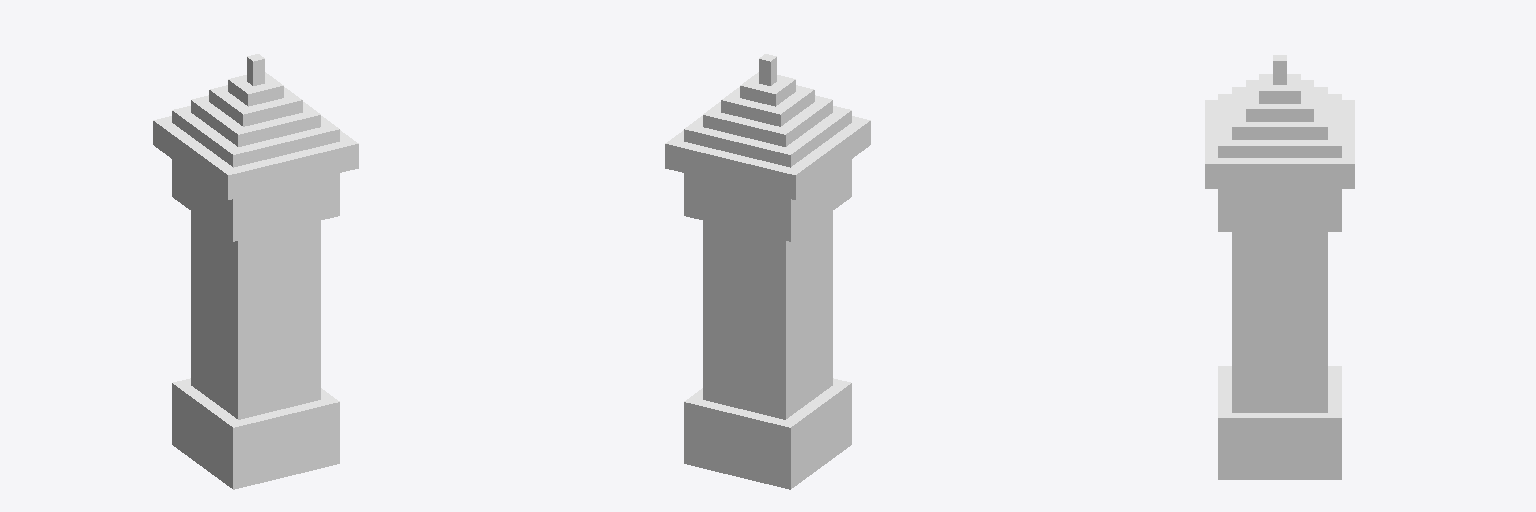
File: tower-poc.obj
3 renders of one model, left to right at view 1: azimuth 30°, elevation 25°; view 2: azimuth 150°, elevation 25°; view 3: azimuth 270°, elevation 25°, orthographic.
Parts seen in each view (by area): view 1: object 1; view 2: object 1; view 3: object 1.
Part boxes in pixels (bbox=[...]): object 1: bbox=[153, 54, 358, 489]; object 1: bbox=[665, 54, 870, 489]; object 1: bbox=[1205, 55, 1354, 479].
Size of the model in its own units: 1.1 by 3.2 by 1.1.